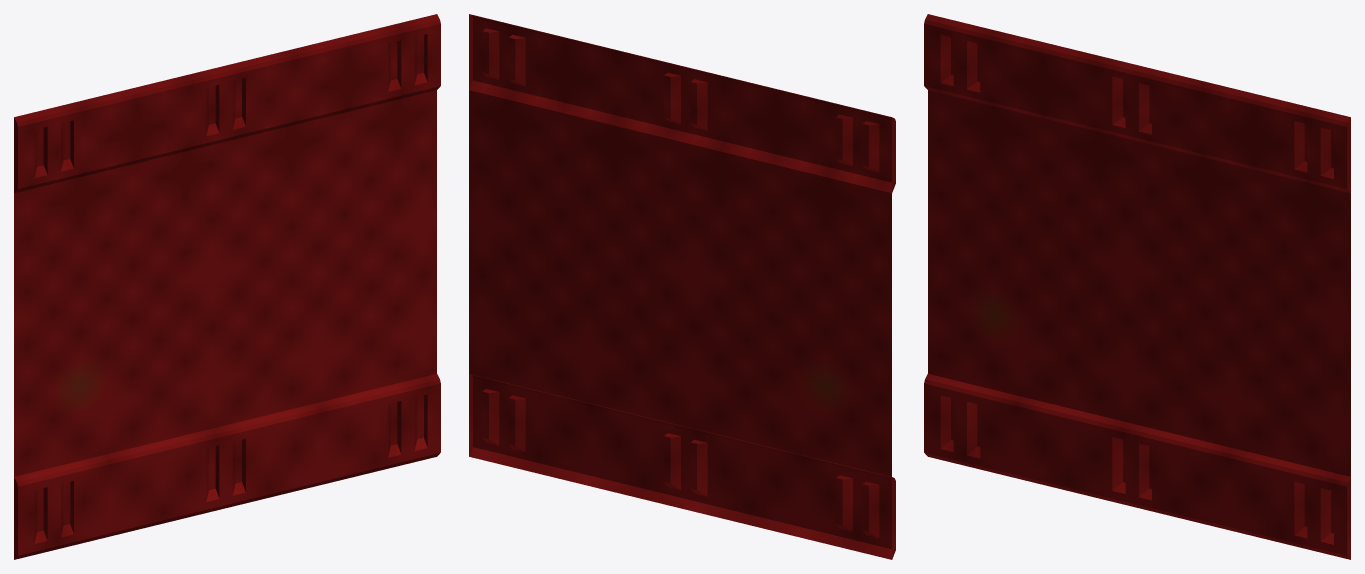
File: sci1_9.fbx
The picture shows the model from 3 angles, left to right: view 1: azimuth 30°, elevation 25°; view 2: azimuth 150°, elevation 25°; view 3: azimuth 330°, elevation 25°; orthographic projection.
Visible parts, largest first — view 1: sci1_9_mesh; view 2: sci1_9_mesh; view 3: sci1_9_mesh.
Part boxes in pixels (bbox=[...]): sci1_9_mesh: bbox=[14, 14, 440, 559]; sci1_9_mesh: bbox=[469, 14, 895, 559]; sci1_9_mesh: bbox=[924, 14, 1350, 559].
Bounding box in the file's own units: 256 × 256 × 4.
